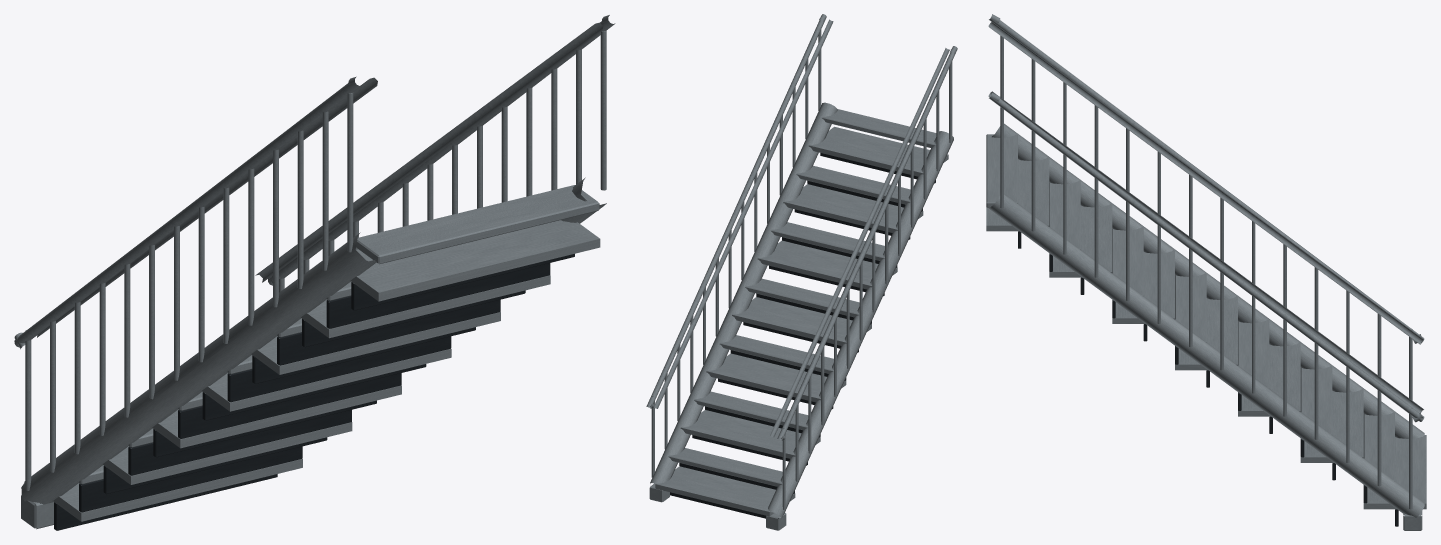
The model's file is stairs_flight.gltf.
3 renders of one model, left to right at view 1: azimuth 30°, elevation 25°; view 2: azimuth 150°, elevation 25°; view 3: azimuth 270°, elevation 25°, orthographic. The views are drawn at different scales.
Visible parts, largest first — view 1: stairs_treads_and_risers, stairs_distance_treads_rails, stairs_structural_stringers, stairs_dual_handrails, stairs_handrail_post_right_14, stairs_handrail_post_left_14, stairs_handrail_post_left_13, stairs_handrail_post_left_12, stairs_handrail_post_left_10, stairs_handrail_post_left_09, stairs_handrail_post_left_08, stairs_handrail_post_left_05 (+11 smaller); view 2: stairs_treads_and_risers, stairs_distance_treads_rails, stairs_structural_stringers, stairs_dual_handrails, stairs_stringer_foot_mounts; view 3: stairs_distance_treads_rails, stairs_treads_and_risers, stairs_structural_stringers, stairs_dual_handrails.
Part boxes in pixels (x1,y1,x2,y2): stairs_treads_and_risers: (54, 185, 599, 530); stairs_distance_treads_rails: (24, 22, 606, 521); stairs_structural_stringers: (21, 177, 604, 505); stairs_dual_handrails: (14, 20, 615, 347); stairs_handrail_post_right_14: (600, 31, 606, 190); stairs_handrail_post_left_14: (347, 92, 353, 252); stairs_handrail_post_left_13: (322, 111, 328, 270); stairs_handrail_post_left_12: (297, 130, 303, 288); stairs_handrail_post_left_10: (248, 168, 254, 325); stairs_handrail_post_left_09: (223, 187, 229, 343); stairs_handrail_post_left_08: (198, 207, 204, 362); stairs_handrail_post_left_05: (124, 264, 130, 417); stairs_treads_and_risers: (655, 109, 936, 518); stairs_distance_treads_rails: (651, 19, 949, 516); stairs_structural_stringers: (650, 102, 953, 517); stairs_dual_handrails: (646, 17, 957, 440); stairs_stringer_foot_mounts: (649, 483, 786, 530); stairs_distance_treads_rails: (986, 21, 1426, 513); stairs_treads_and_risers: (986, 134, 1425, 526); stairs_structural_stringers: (988, 123, 1424, 517); stairs_dual_handrails: (989, 18, 1424, 421).
Size of what is drawn, in the model's own units: 1.4 by 3.52 by 3.2.
Materials: 3 (3 with a texture image).
